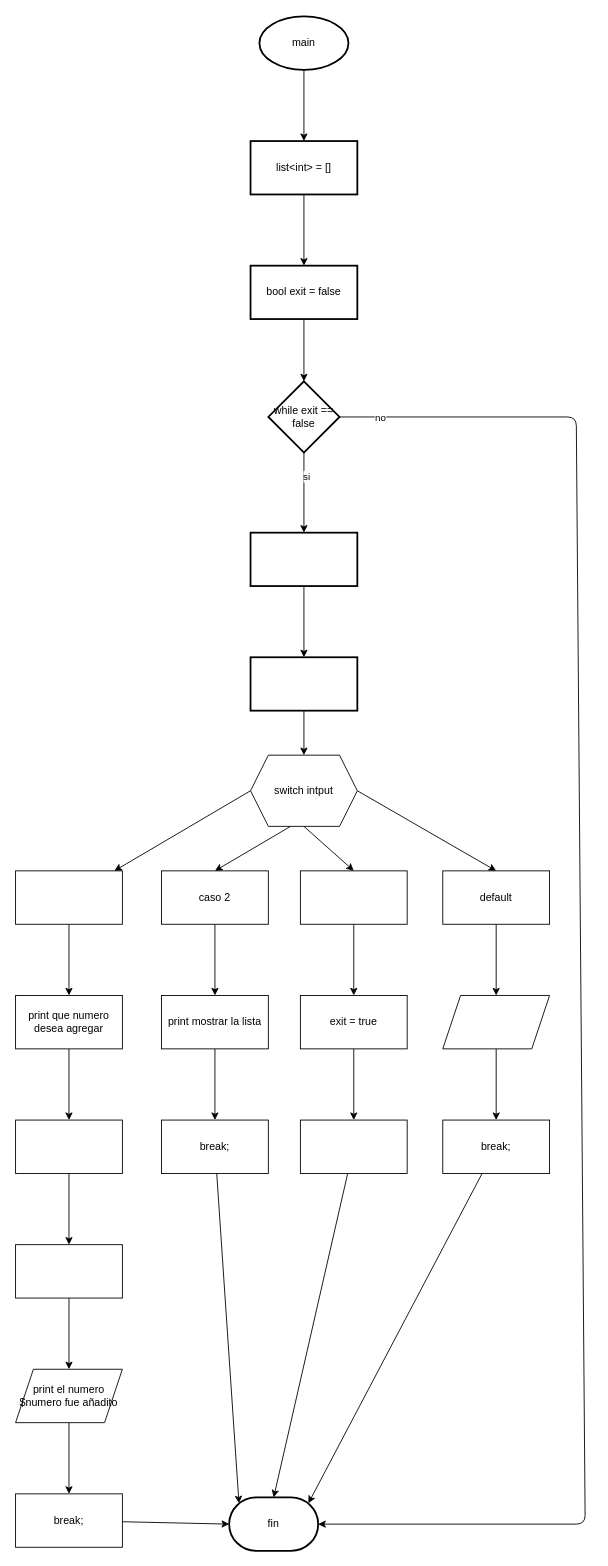
Image size: 608x1566. Some labels were removed from this diagram. The shapes that lost their labels are listed below. From the top down, each one's centre as x and y in pixels, then its label:
(303,559): print menu de opciones
(303,683): input de tipo string para leer los datos ingresados
(68,897): caso 1
(353,897): caso 3
(496,1022): print numero erroneo
(68,1146): input lectura del numero
(353,1146): print salida del menu
(68,1271): lista.add numero
